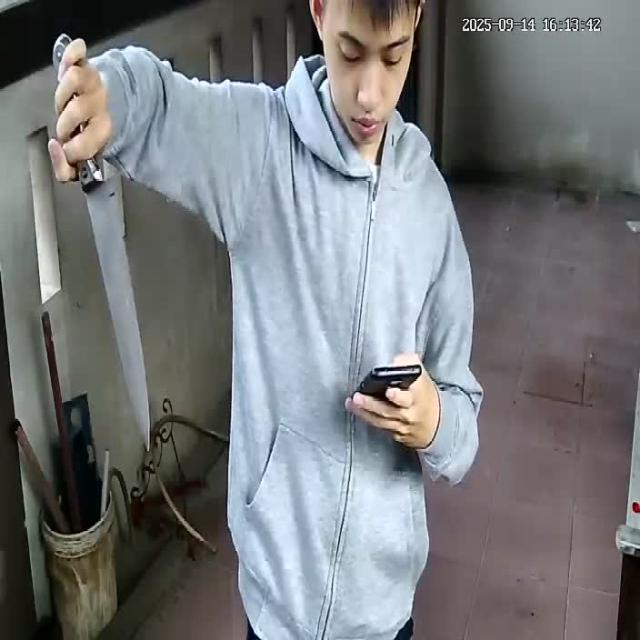senjata_tajam: (75, 162, 154, 454)
